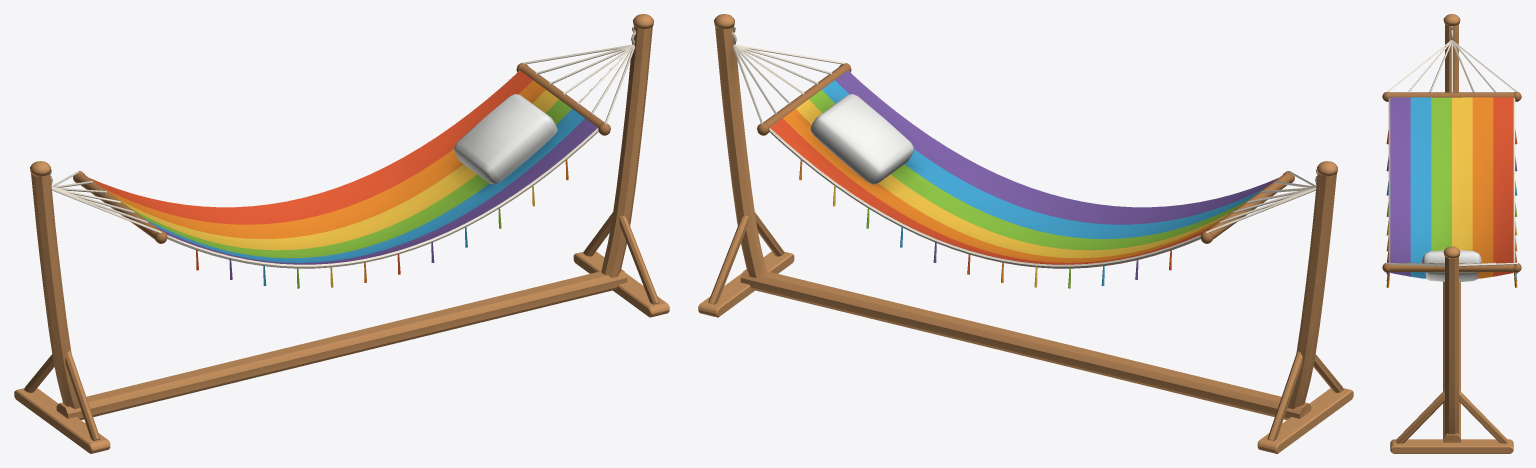
File: rainbowHammock.glb
3 renders of one model, left to right at view 1: azimuth 30°, elevation 25°; view 2: azimuth 150°, elevation 25°; view 3: azimuth 270°, elevation 25°, orthographic. The views are drawn at different scales.
Visible parts, largest first — view 1: sling, body; view 2: sling, body; view 3: sling, body.
Boxes of the visible parts, box(x1,y1,x2,y2) form: sling: box(50, 27, 635, 288); body: box(14, 14, 669, 453); sling: box(732, 27, 1317, 288); body: box(698, 14, 1353, 453); sling: box(1382, 26, 1521, 287); body: box(1390, 14, 1513, 453).
Bounding box in the file's own units: 2.84 × 1.17 × 0.7.
